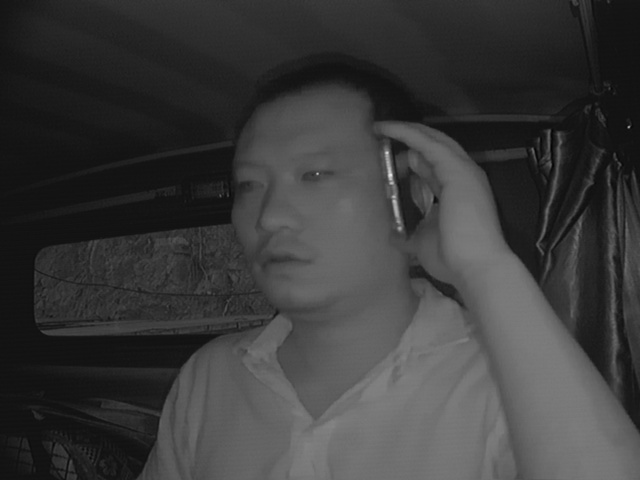hand: (369, 112, 498, 278)
